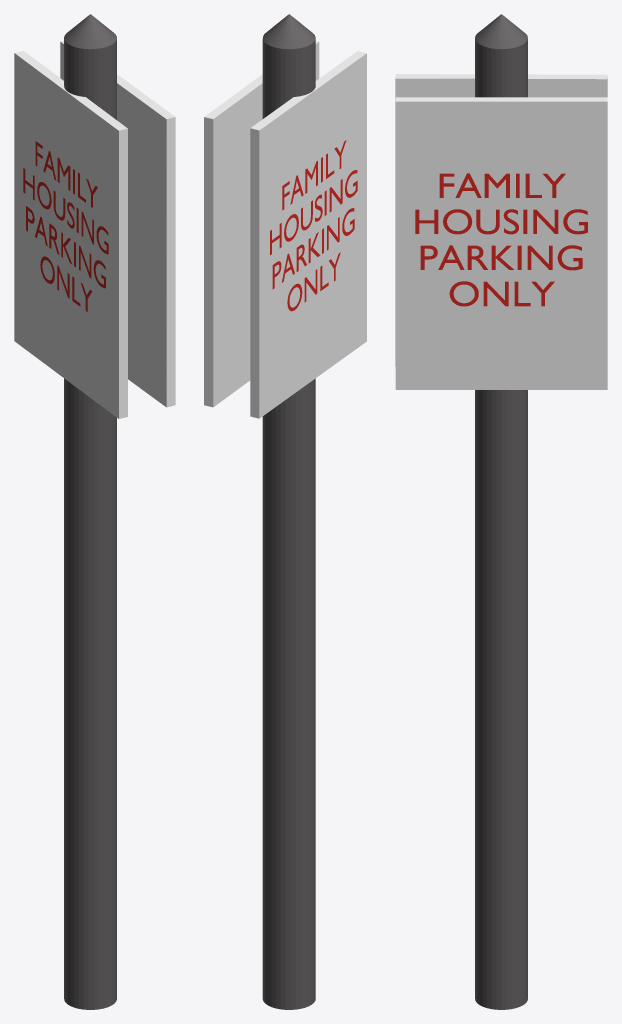
Rendered from Sign.fbx.
3 views of the same model, side by side, from view 1: azimuth 30°, elevation 25°; view 2: azimuth 150°, elevation 25°; view 3: azimuth 270°, elevation 25° (orthographic).
Parts seen in each view (by area): view 1: 柱体, 立方体.001, 立方体, 文本.001; view 2: 柱体, 立方体.001, 立方体, 文本.001; view 3: 立方体, 柱体, 文本, 立方体.001.
Part boxes in pixels (bbox=[...]): 柱体: bbox=[64, 14, 116, 1009]; 立方体.001: bbox=[14, 50, 127, 418]; 立方体: bbox=[60, 41, 175, 407]; 文本.001: bbox=[23, 141, 108, 311]; 柱体: bbox=[262, 14, 315, 1009]; 立方体.001: bbox=[250, 51, 366, 418]; 立方体: bbox=[204, 41, 319, 407]; 文本.001: bbox=[270, 140, 357, 311]; 立方体: bbox=[395, 97, 607, 389]; 柱体: bbox=[475, 14, 527, 1009]; 文本: bbox=[415, 173, 587, 306]; 立方体.001: bbox=[395, 74, 607, 366].
Size of the model in its own units: 252 by 4100 by 800.
